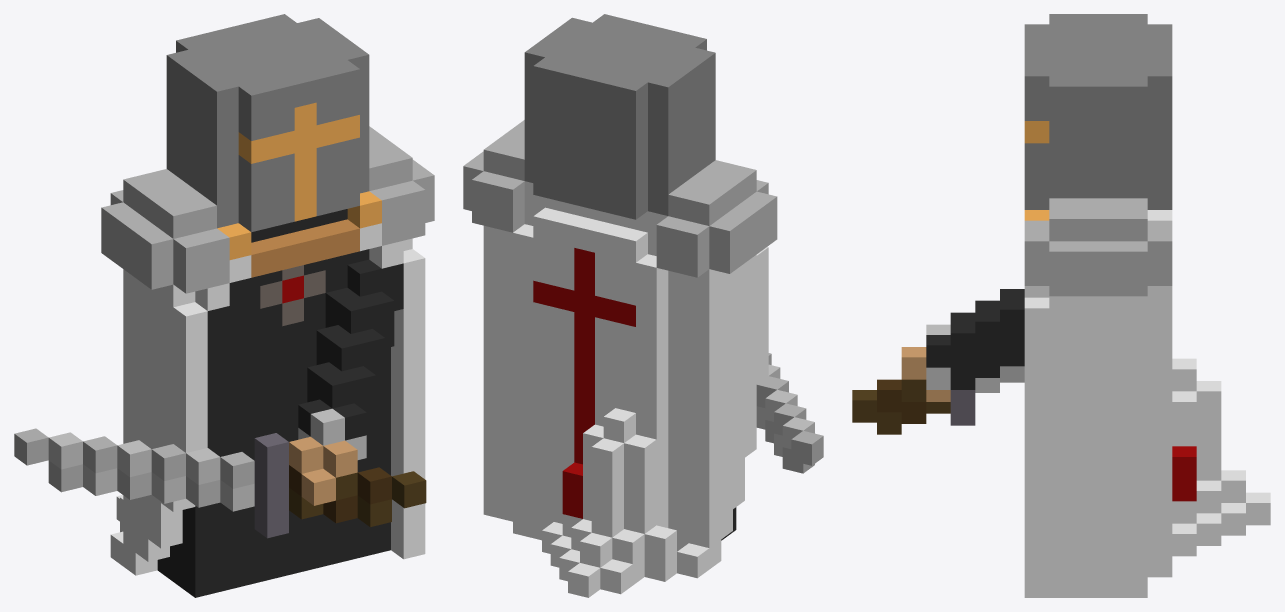
File: hit 4.obj
3 renders of one model, left to right at view 1: azimuth 30°, elevation 25°; view 2: azimuth 150°, elevation 25°; view 3: azimuth 270°, elevation 25°, orthographic. The views are drawn at different scales.
Size of the model in its own units: 17 by 22 by 17.
1 material, 1 textured.
